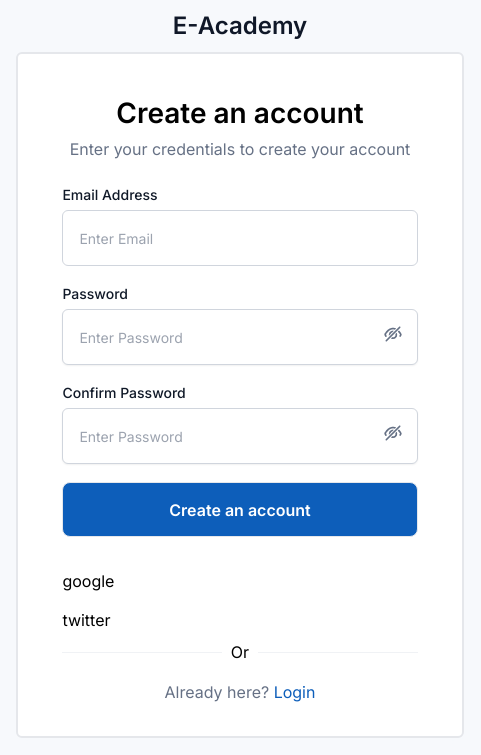
Signup Component › disables the submit button when isDisabled is true
# Simulate clicking the button to toggle isDisabled
Click the button "Create an account".
click(240, 510)  # box top-left (62, 482), bottom-right (418, 537)
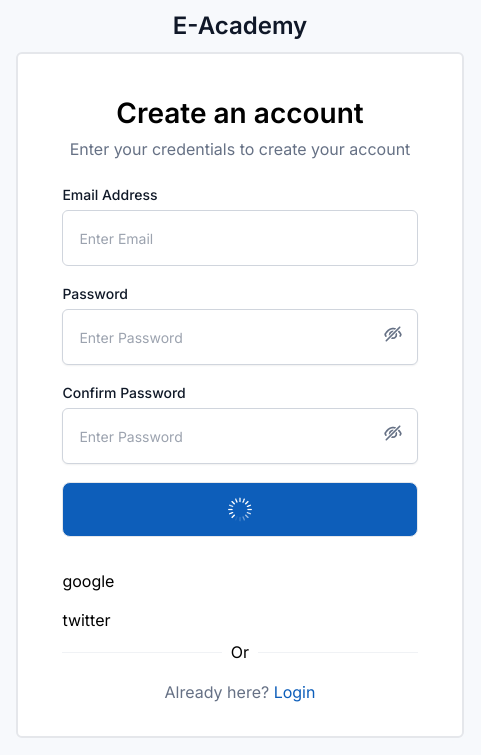
Now the button named "Create an account" is disabled, box top-left (62, 482), bottom-right (418, 537)
